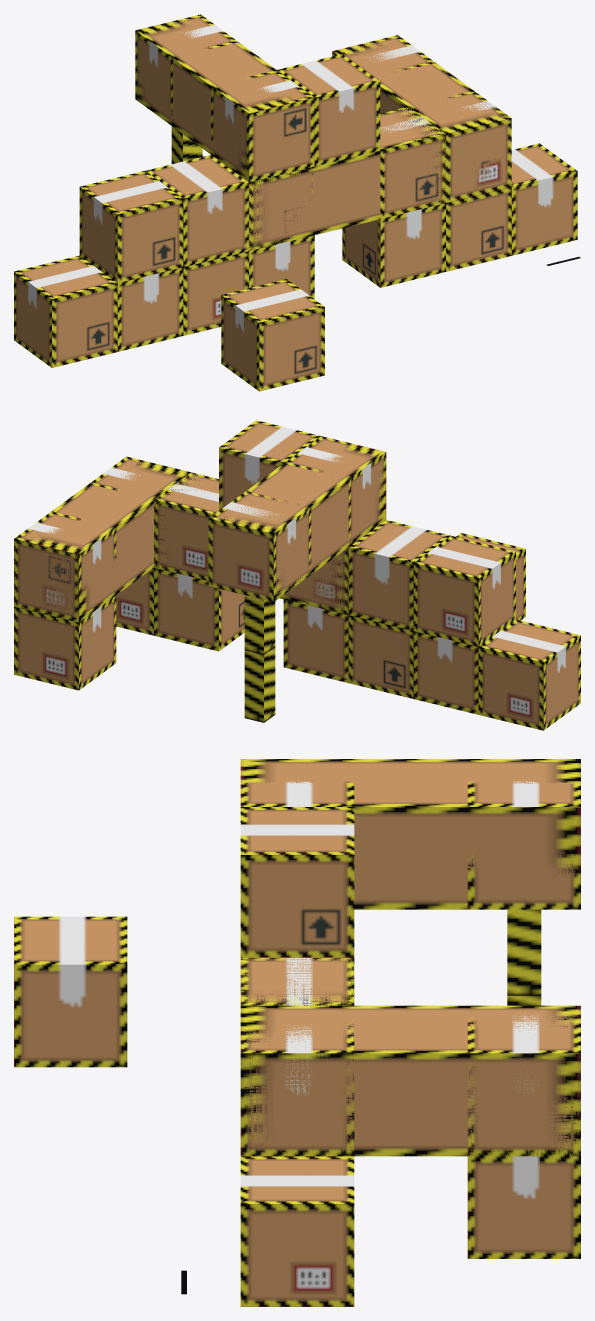
Rendered from level1.gltf.
The picture shows the model from 3 angles, top to bottom: view 1: azimuth 30°, elevation 25°; view 2: azimuth 150°, elevation 25°; view 3: azimuth 270°, elevation 25°; orthographic projection. The views are drawn at different scales.
Visible parts, largest first — view 1: LongPackage.003, LongPackage.001, Package.003, Package.001, Package.013, LongPackage.002, Package.009, Package.004, Package.007, Package.011, Invisible.002, Package.002 (+9 smaller); view 2: LongPackage.003, LongPackage.002, Package.003, Package.001, Package.012, Package.004, Invisible.004, Package.007, Invisible.002, Invisible.006, Package.002, Package.006 (+10 smaller); view 3: LongPackage.002, LongPackage.003, Package.009, Package.011, Package.013, Package.012, Invisible.003, Invisible.004, Invisible.006, Invisible.002, LongPackage.001, Beam.002 (+1 smaller).
Part boxes in pixels (left/top/right/bottom): LongPackage.003: left=135, top=19, right=314, bottom=182; LongPackage.001: left=249, top=107, right=445, bottom=250; Package.003: left=79, top=171, right=183, bottom=283; Package.001: left=14, top=255, right=117, bottom=367; Package.013: left=221, top=279, right=324, bottom=391; LongPackage.002: left=332, top=39, right=511, bottom=199; Package.009: left=277, top=54, right=380, bottom=166; Package.004: left=145, top=155, right=248, bottom=266; Package.007: left=342, top=203, right=445, bottom=287; Package.011: left=511, top=143, right=577, bottom=255; Invisible.002: left=380, top=106, right=445, bottom=218; Package.002: left=117, top=267, right=183, bottom=351; LongPackage.003: left=208, top=444, right=386, bottom=601; LongPackage.002: left=14, top=460, right=190, bottom=622; Package.003: left=413, top=535, right=515, bottom=646; Package.001: left=478, top=619, right=580, bottom=730; Package.012: left=14, top=595, right=116, bottom=690; Package.004: left=348, top=520, right=450, bottom=630; Invisible.004: left=14, top=511, right=116, bottom=621; Package.007: left=154, top=568, right=244, bottom=651; Invisible.002: left=154, top=472, right=218, bottom=580; Invisible.006: left=208, top=491, right=311, bottom=600; Package.002: left=413, top=631, right=478, bottom=714; Package.006: left=283, top=599, right=348, bottom=682; LongPackage.002: left=240, top=1005, right=580, bottom=1156; LongPackage.003: left=240, top=759, right=580, bottom=909; Package.009: left=240, top=807, right=354, bottom=957; Package.011: left=240, top=1156, right=354, bottom=1306; Package.013: left=14, top=916, right=127, bottom=1067; Package.012: left=467, top=1156, right=580, bottom=1258; Invisible.003: left=240, top=1021, right=354, bottom=1156; Invisible.004: left=467, top=1011, right=580, bottom=1156; Invisible.006: left=467, top=781, right=580, bottom=909; Invisible.002: left=240, top=957, right=354, bottom=1005; LongPackage.001: left=240, top=957, right=354, bottom=1005; Beam.002: left=507, top=909, right=541, bottom=995.
Size of the model in its own units: 16 by 6 by 10.
1 material, 1 textured.
